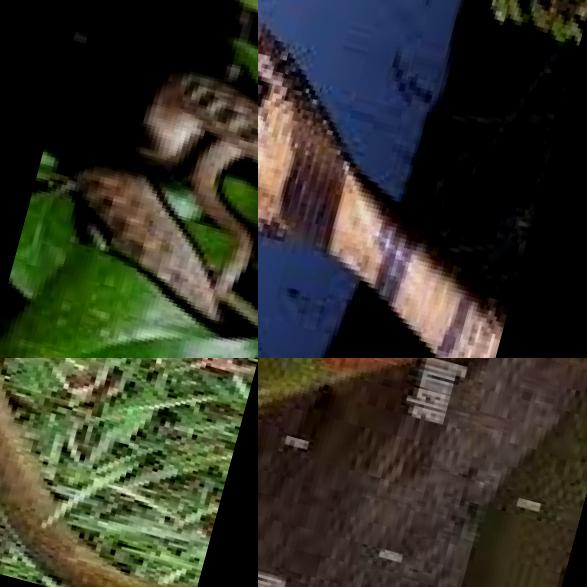snake: (258, 0, 587, 358), (0, 0, 258, 358), (258, 358, 587, 587), (0, 358, 258, 587)
